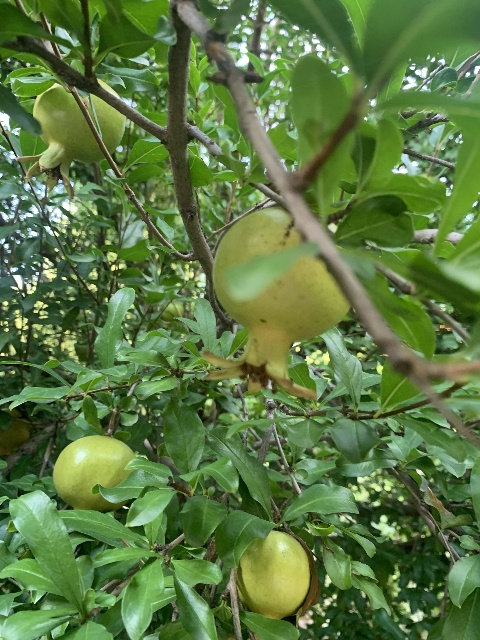mid-growth: (199, 207, 349, 400), (15, 78, 125, 200), (52, 434, 137, 512), (236, 530, 310, 619)
